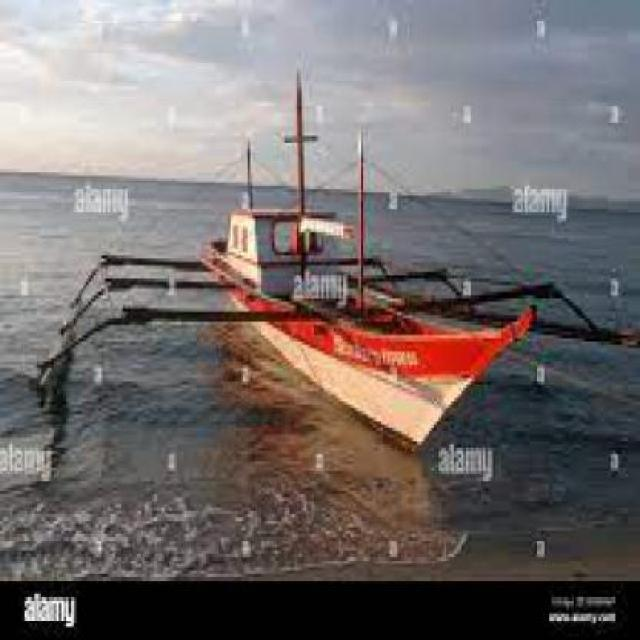fish-b: (189, 50, 551, 472)
